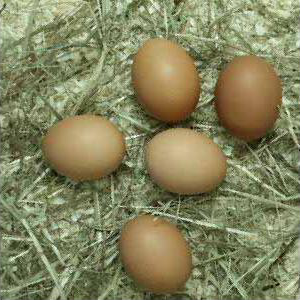eggw: (119, 215, 194, 294), (216, 54, 283, 140), (133, 39, 201, 123), (42, 115, 128, 180), (145, 128, 227, 195)
